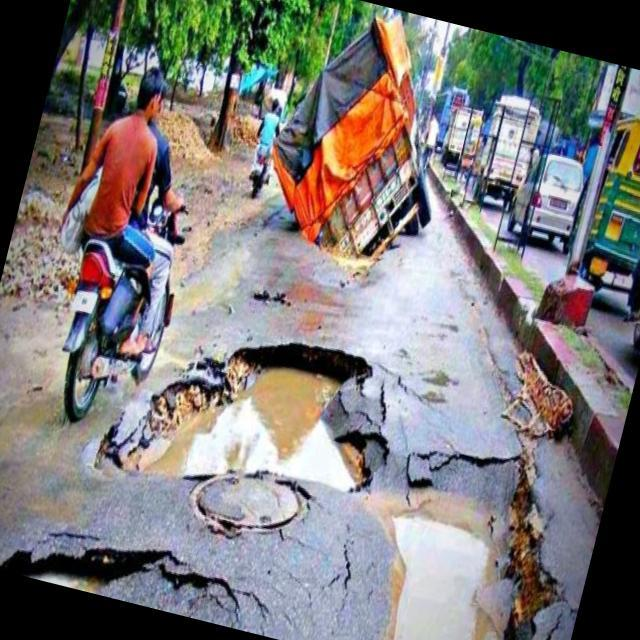Pothole: (100, 280, 400, 537), (341, 421, 611, 640), (0, 492, 296, 639), (272, 136, 436, 292), (247, 278, 299, 312)
